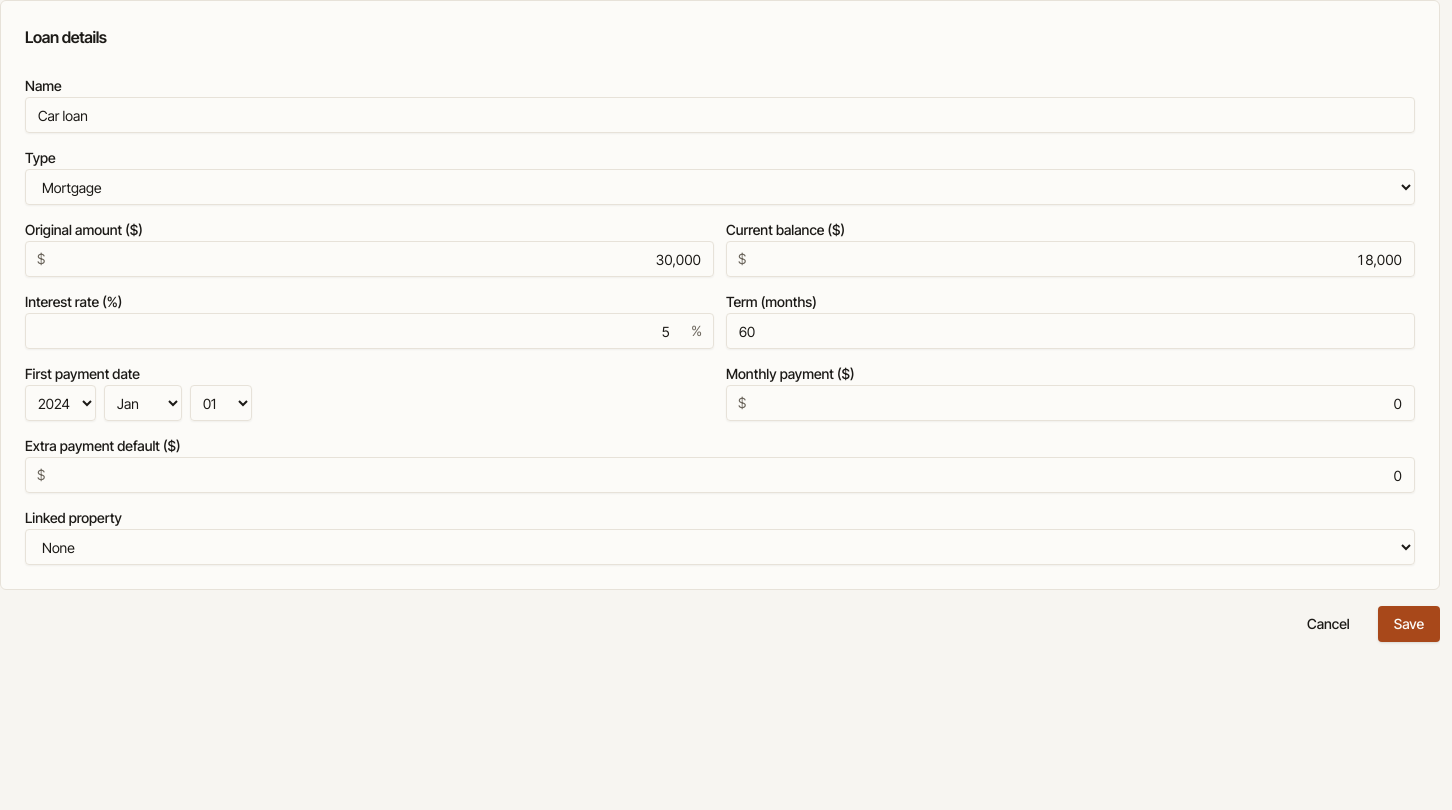
it: LoanForm monthly-payment autofill › autofills the CONTRACT payment from originalAmount for a seasoned loan (wave-9 F4)
# Blur any amortization input to trigger the autofill.
Click the field labelled "Current balance ($)" at (1070, 259), box [726,241,1415,277]
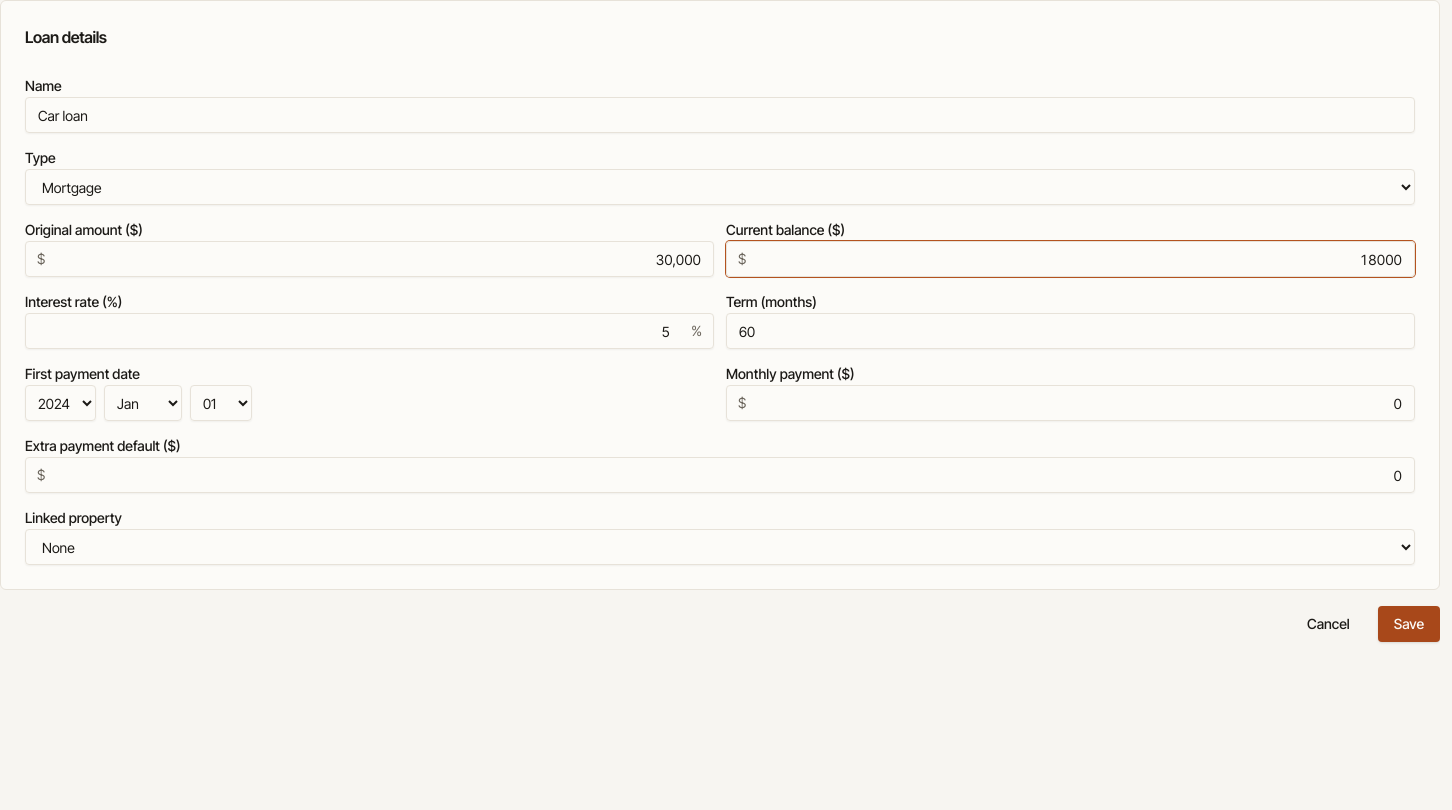
Press Tab
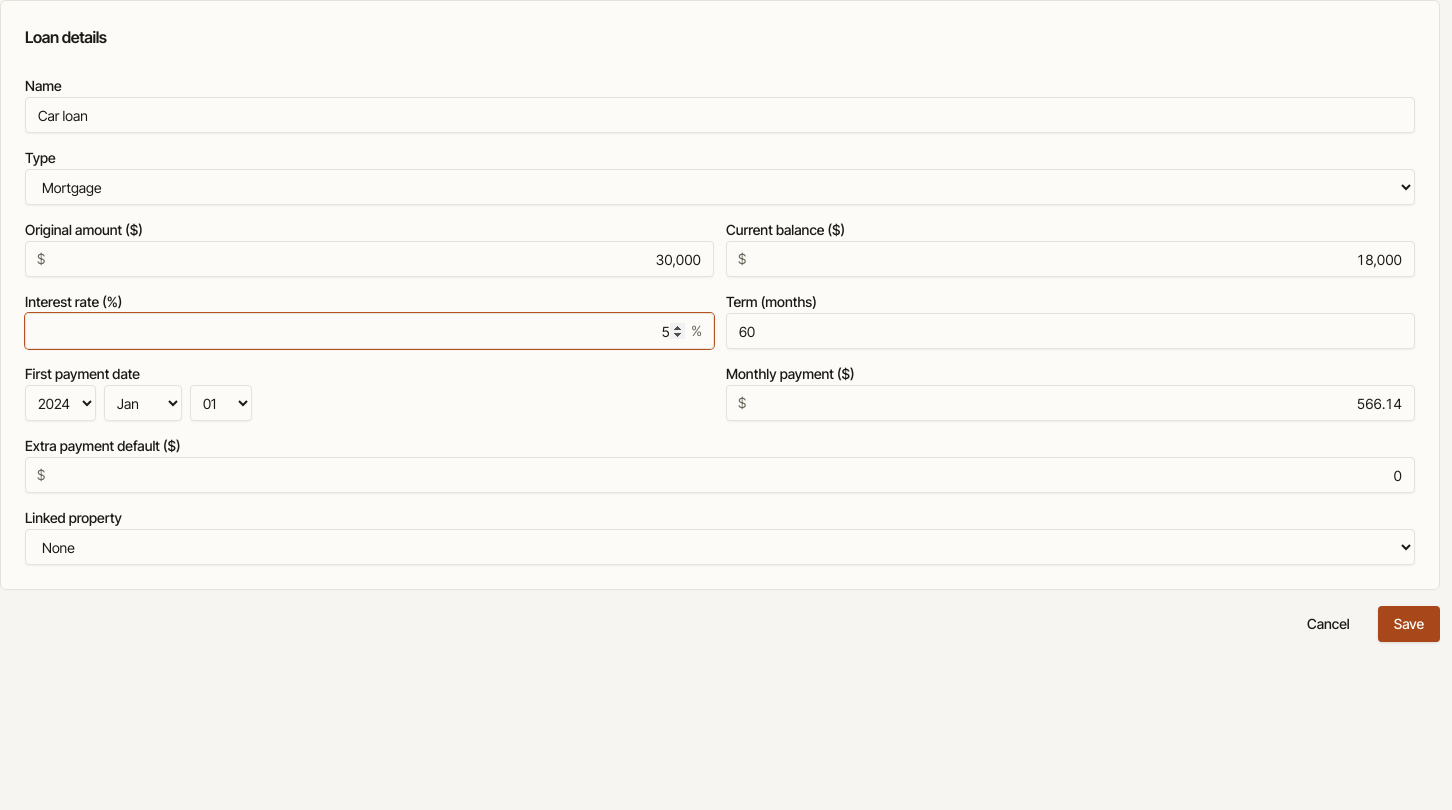
Check: the field labelled "Monthly payment ($)" holds "566.14", box [726,385,1415,421]
